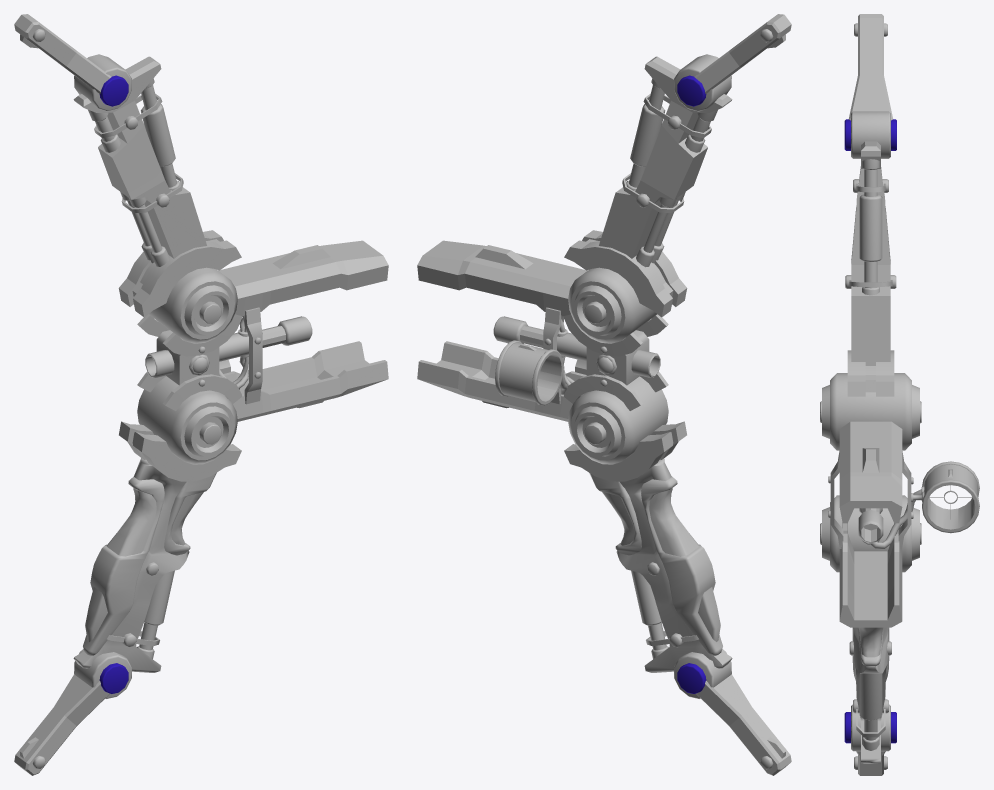
Rendered from bow.glb.
3 views of the same model, side by side, from view 1: azimuth 30°, elevation 25°; view 2: azimuth 150°, elevation 25°; view 3: azimuth 270°, elevation 25° (orthographic).
Visible parts, largest first — view 1: Bow; view 2: Bow; view 3: Bow.
Part boxes in pixels (left/top/right/bottom): Bow: left=14, top=14, right=388, bottom=775; Bow: left=417, top=14, right=791, bottom=775; Bow: left=820, top=14, right=979, bottom=775.
Bounding box in the file's own units: 3.83 × 7.81 × 1.49.
